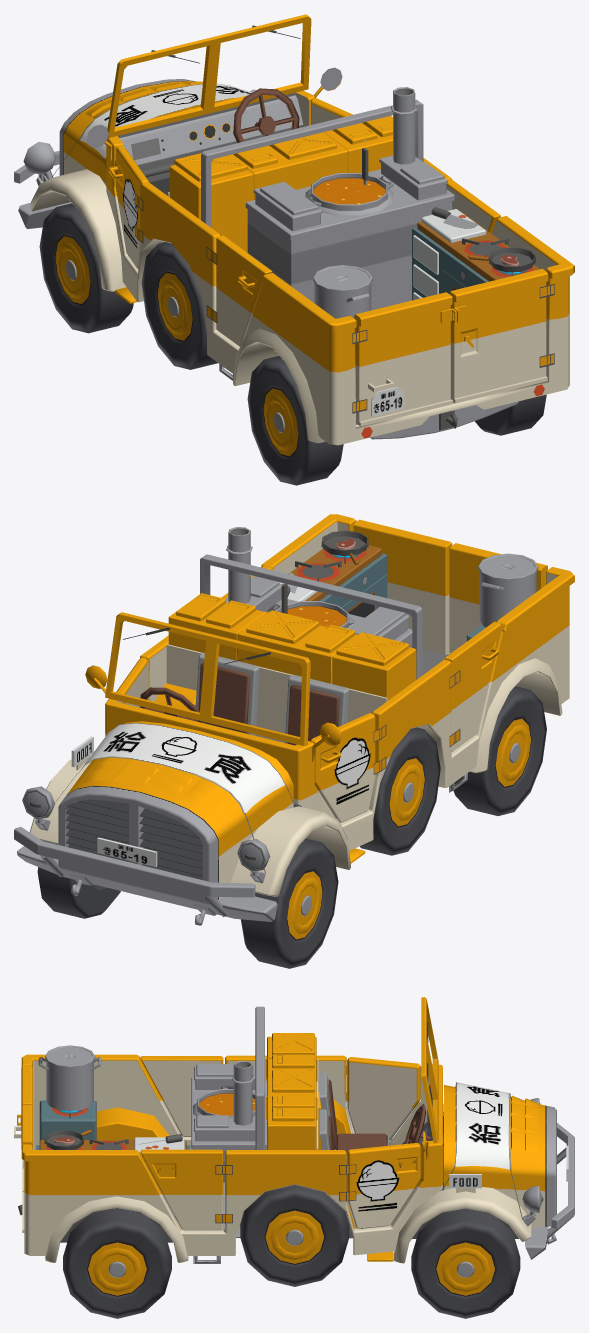
The model's file is LunchTruck.fbx.
3 renders of one model, top to bottom at view 1: azimuth 30°, elevation 25°; view 2: azimuth 150°, elevation 25°; view 3: azimuth 270°, elevation 25°, orthographic. The views are drawn at different scales.
Visible parts, largest first — view 1: hi; view 2: hi; view 3: hi.
Part boxes in pixels (x1=…): hi: x1=14, y1=14, x2=574, y2=485; hi: x1=14, y1=514, x2=574, y2=968; hi: x1=14, y1=997, x2=574, y2=1318.
Size of the model in its own units: 773 by 828 by 1754.
Materials: 1 (1 with a texture image).
